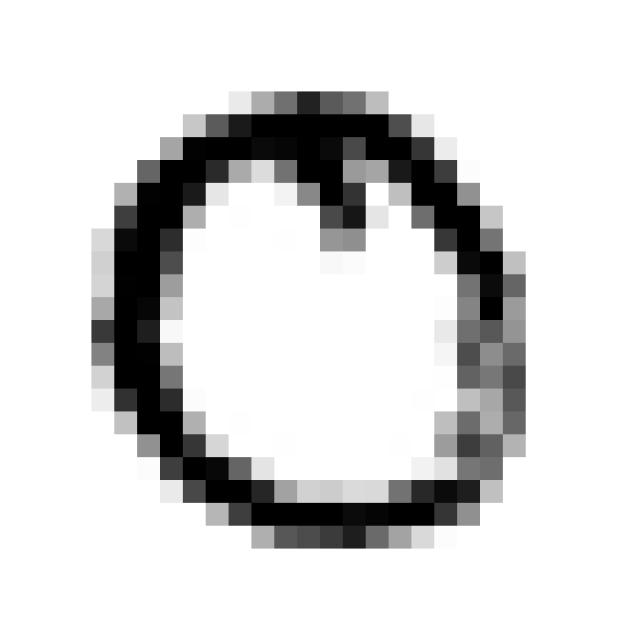5 -five-: (76, 73, 540, 565)
